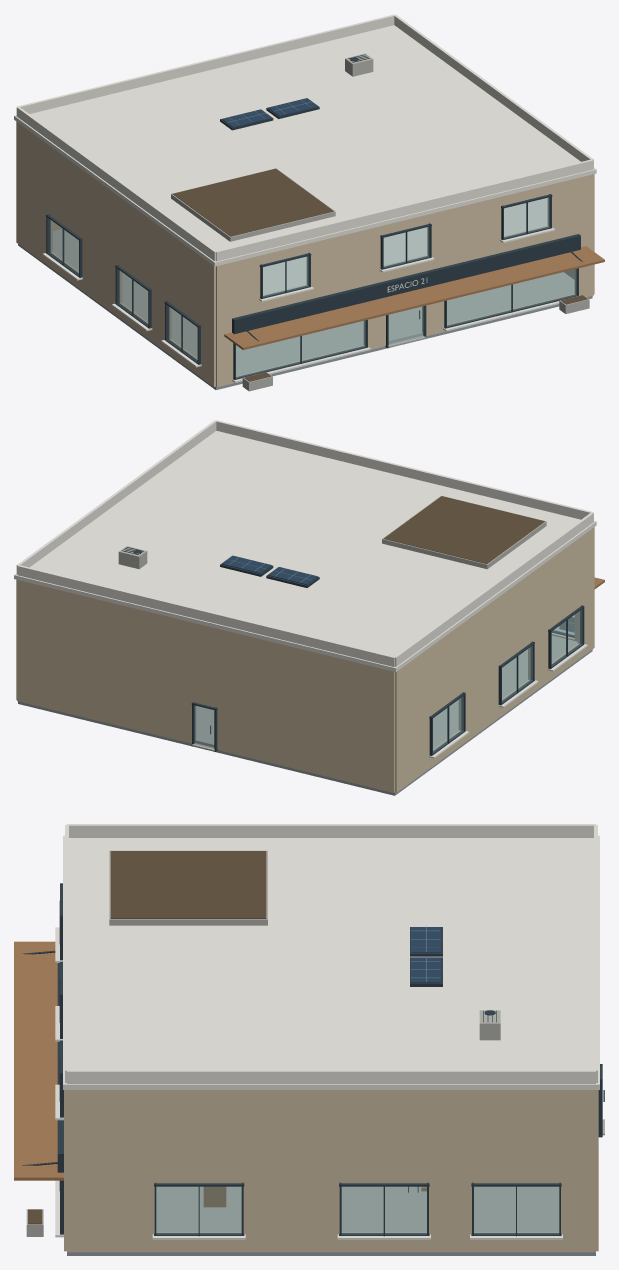
Rendered from Shop_11.fbx.
The picture shows the model from 3 angles, top to bottom: view 1: azimuth 30°, elevation 25°; view 2: azimuth 150°, elevation 25°; view 3: azimuth 270°, elevation 25°; orthographic projection. The views are drawn at different scales.
Visible parts, largest first — view 1: Shop_11; view 2: Shop_11; view 3: Shop_11.
Part boxes in pixels (bbox=[...]): Shop_11: bbox=[14, 14, 604, 391]; Shop_11: bbox=[14, 420, 604, 795]; Shop_11: bbox=[14, 824, 604, 1255].
Bounding box in the file's own units: 22.87 × 7.97 × 22.35.
